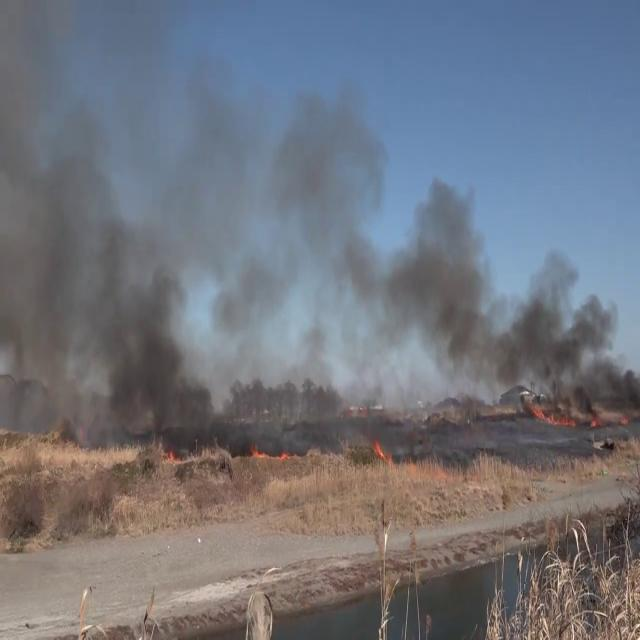Smoke: (2, 41, 356, 436), (365, 178, 640, 428)
